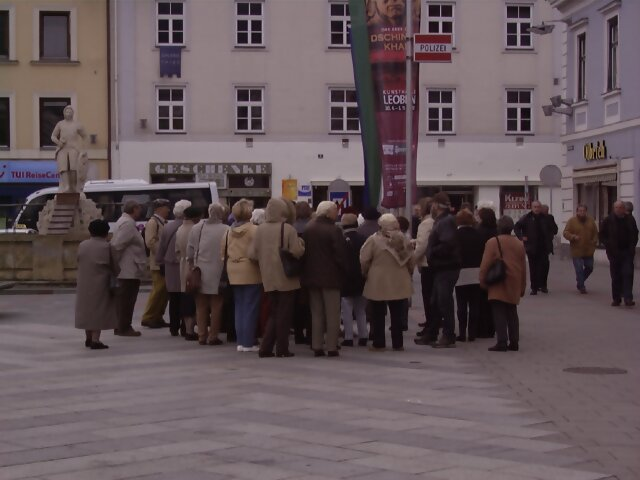person: (255, 197, 305, 364), (356, 212, 415, 352), (415, 192, 462, 353), (304, 199, 350, 359), (482, 212, 532, 356), (68, 217, 122, 350), (190, 202, 232, 346), (111, 196, 147, 341), (599, 196, 640, 306), (561, 200, 602, 297), (515, 201, 555, 299)
